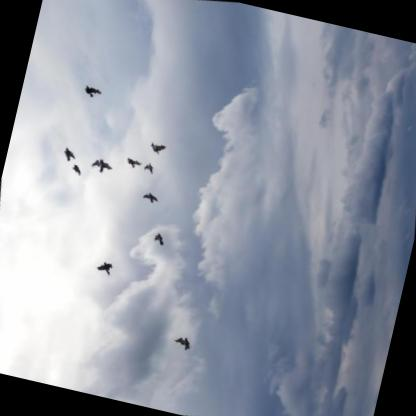bird: (87, 153, 119, 180), (169, 330, 198, 355), (79, 77, 107, 102), (93, 257, 118, 279), (146, 136, 171, 158), (61, 141, 83, 165), (121, 151, 145, 172), (139, 187, 163, 207), (149, 229, 170, 249), (68, 160, 84, 179), (140, 159, 158, 175)
